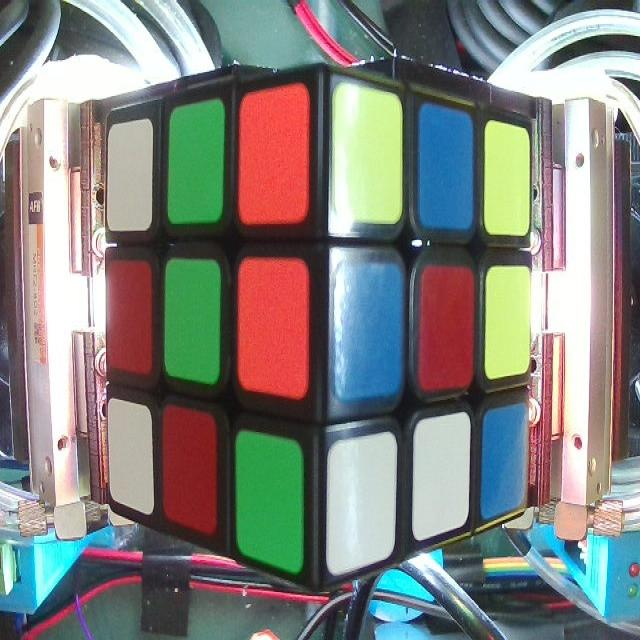b: (338, 268, 399, 393), (424, 107, 472, 220), (482, 412, 527, 508)
g: (236, 436, 305, 573), (167, 258, 218, 378), (170, 107, 221, 220)
o: (240, 261, 305, 395), (243, 94, 303, 222)
r: (163, 412, 213, 524), (424, 270, 474, 382), (107, 270, 153, 378)
w: (332, 443, 396, 568), (416, 419, 470, 529), (110, 125, 155, 228), (109, 402, 152, 509)
y: (334, 87, 399, 217), (487, 126, 530, 230), (487, 267, 528, 376)
